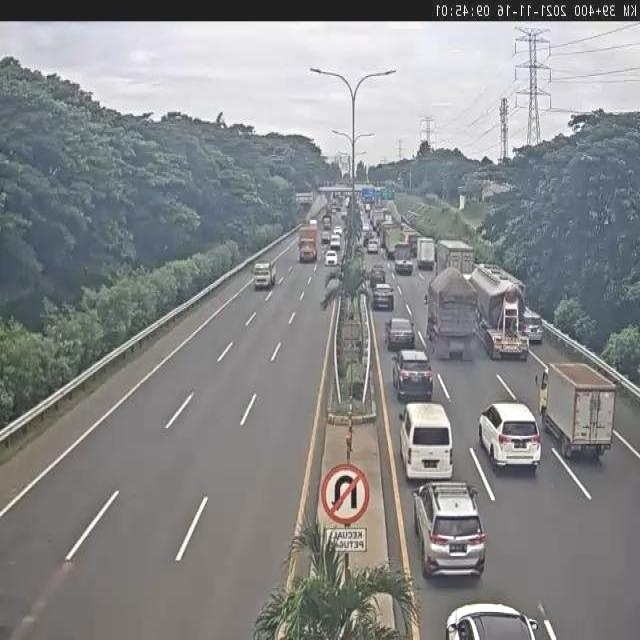Car: (410, 480, 488, 584), (477, 399, 542, 475), (443, 599, 539, 640), (390, 347, 434, 402), (384, 317, 416, 351), (522, 310, 546, 343), (371, 283, 395, 310), (369, 264, 386, 286), (324, 250, 338, 266), (330, 233, 341, 250), (367, 239, 379, 254), (320, 230, 330, 246), (333, 226, 342, 237)
Truck: (535, 359, 618, 461), (468, 262, 530, 361), (424, 265, 480, 363), (433, 238, 475, 278), (384, 226, 408, 259), (298, 226, 318, 262), (253, 261, 277, 290), (393, 241, 413, 274), (416, 238, 436, 271), (408, 232, 425, 258), (322, 213, 332, 231)
Van: (397, 402, 455, 482)
